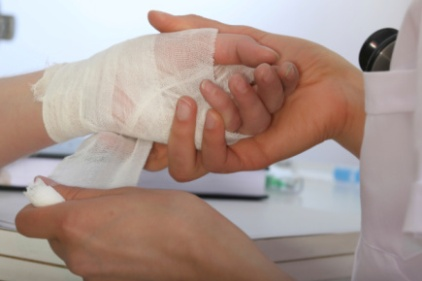injured: (30, 27, 299, 195)
